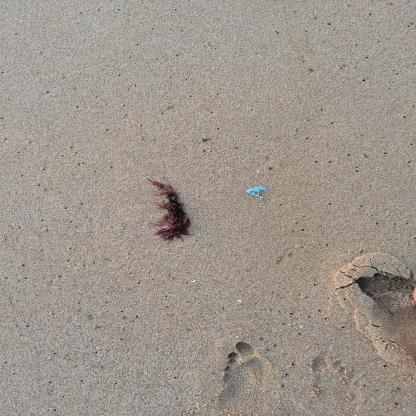plastik: (245, 186, 268, 198)
